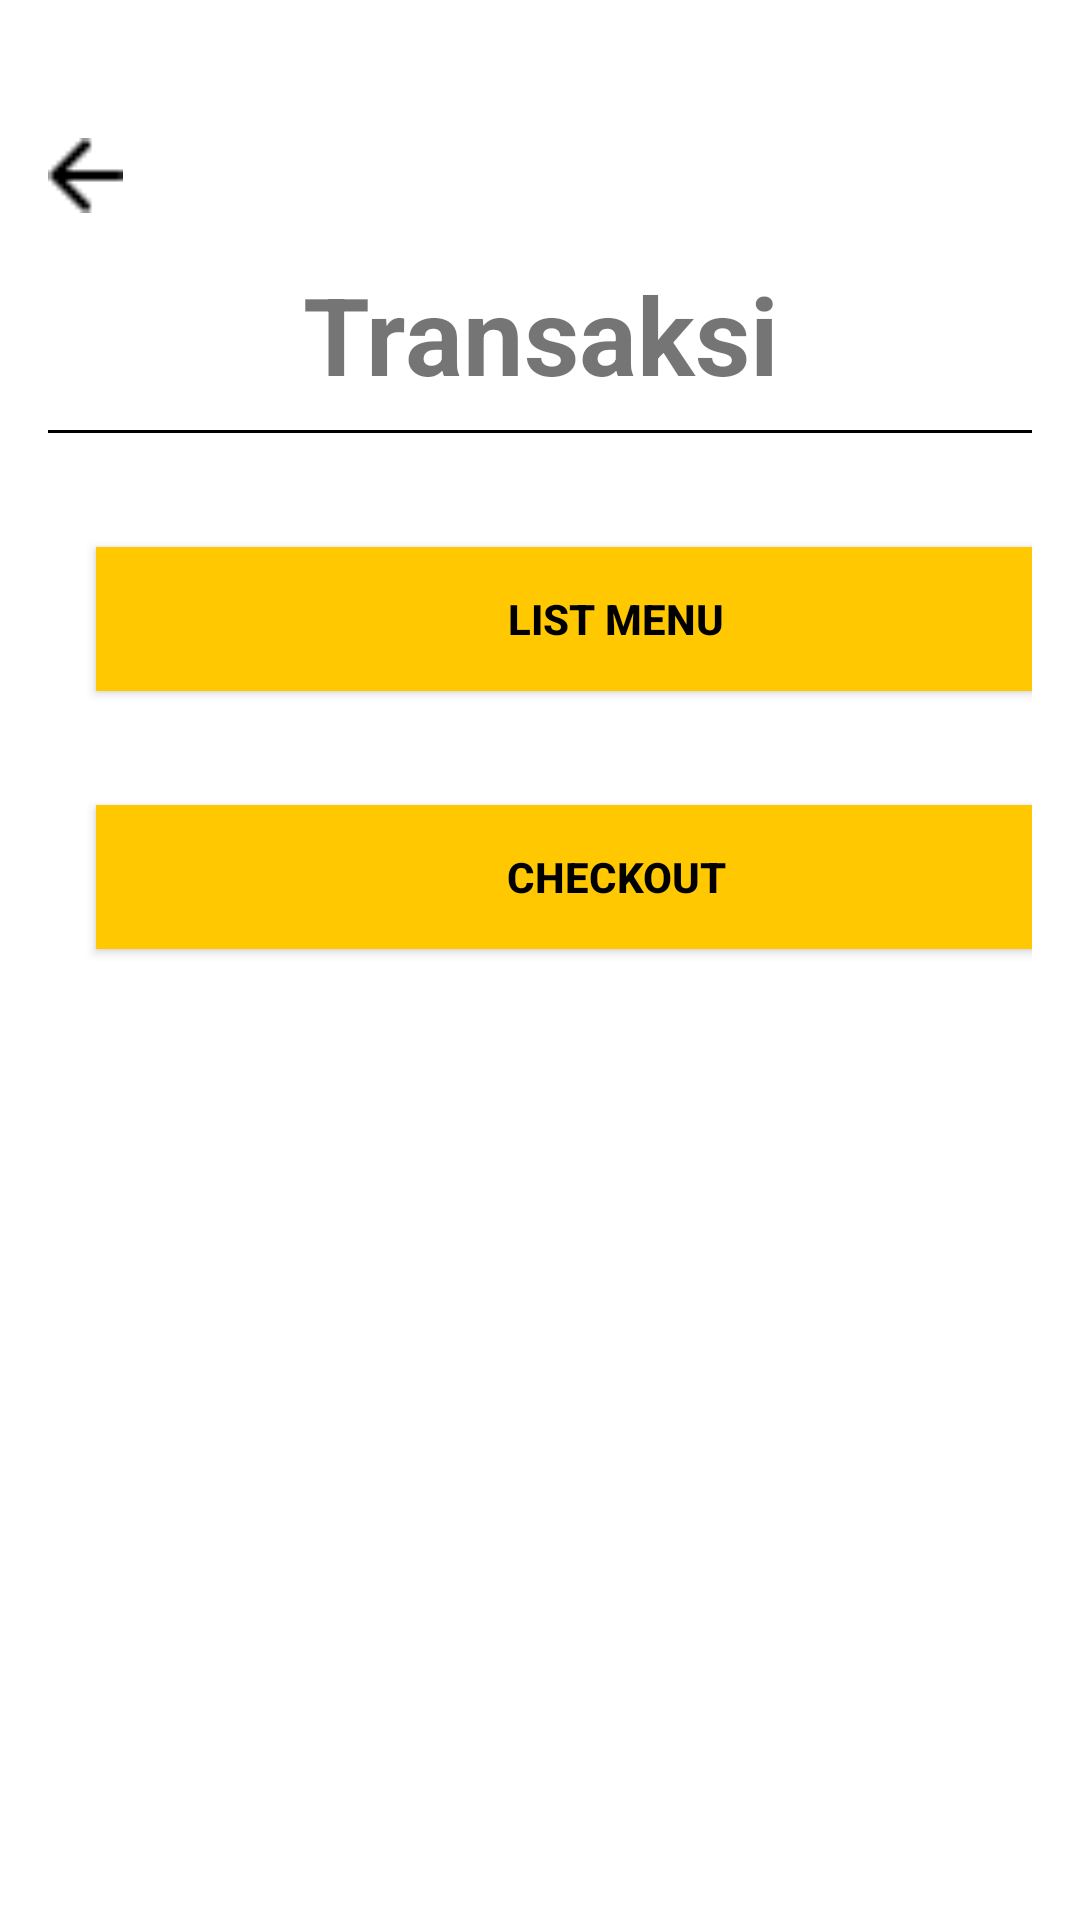

Point at icon controls on the screen. Image size 1080*1920, points as (x,y).
back: (85,175)
